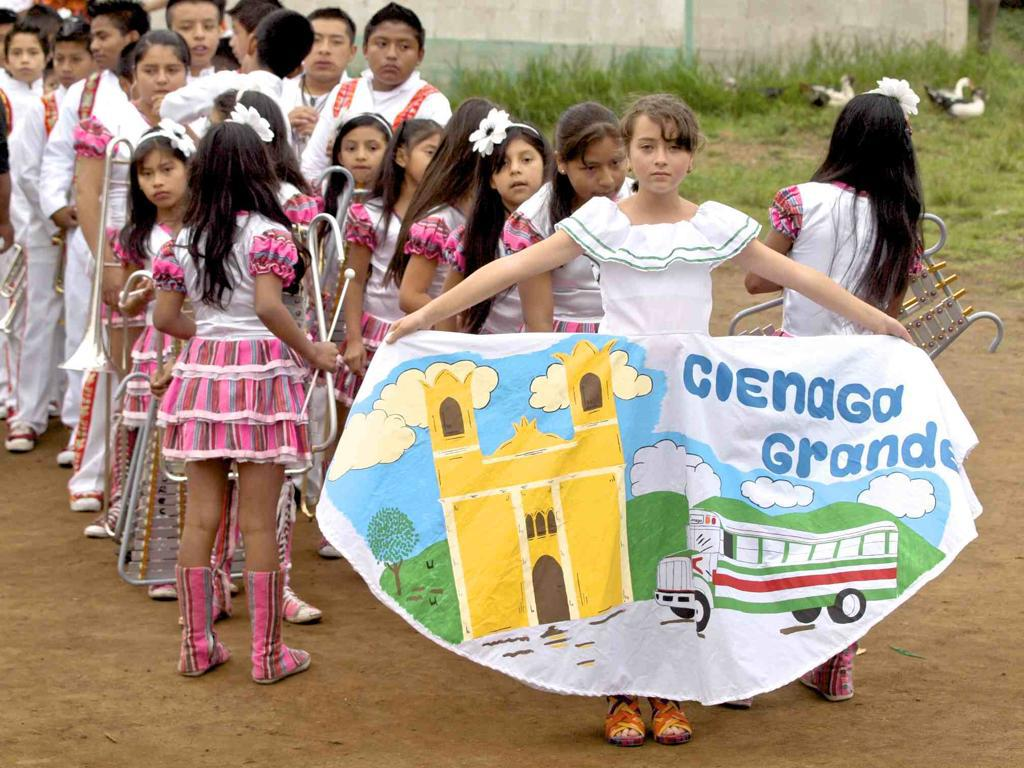face: (632, 113, 691, 193), (567, 137, 627, 203), (492, 140, 544, 205), (370, 21, 418, 86), (137, 48, 187, 107), (174, 5, 220, 66), (137, 153, 187, 209), (343, 128, 387, 185), (307, 20, 349, 79), (408, 132, 446, 185), (205, 104, 239, 163), (89, 18, 127, 69), (9, 33, 45, 80), (57, 41, 92, 86), (229, 16, 256, 66), (38, 32, 55, 69), (1, 24, 16, 59)
